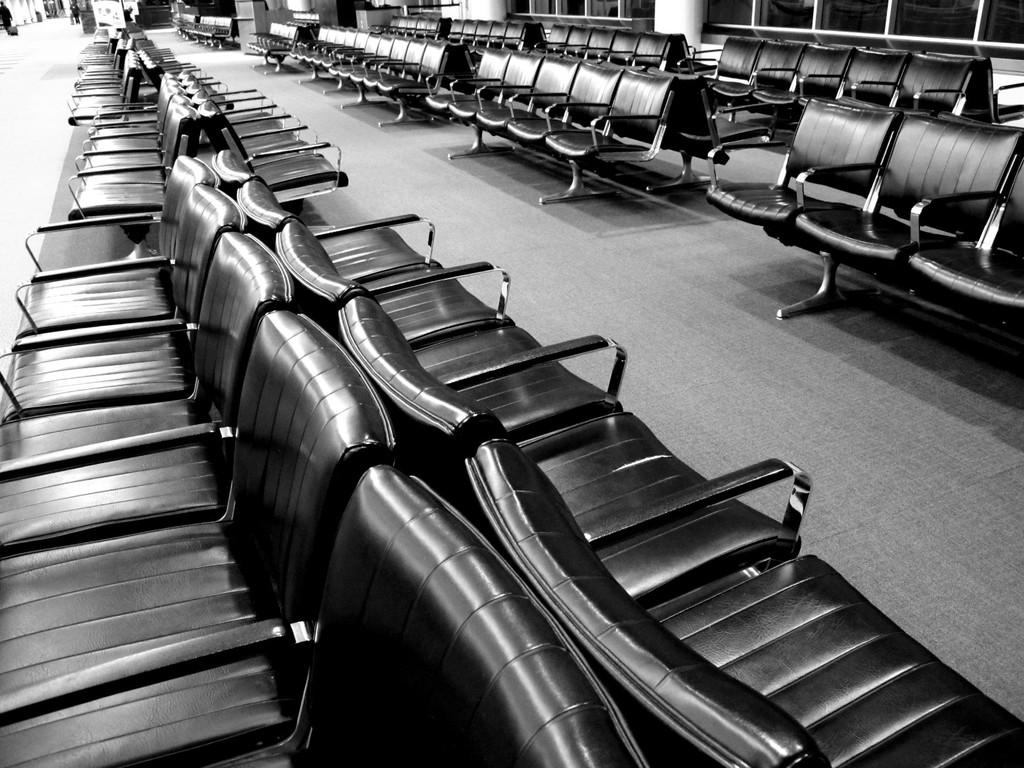Chair: (698, 96, 903, 237)
